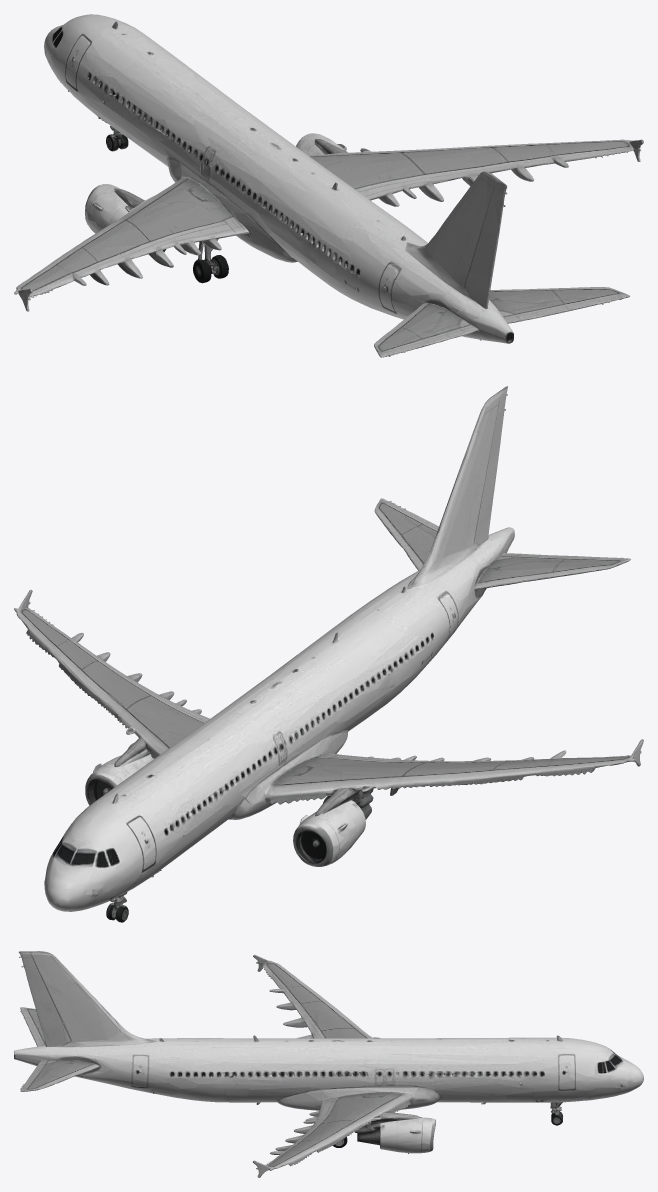
Rendered from passenger_airliner_22.glb.
3 renders of one model, top to bottom at view 1: azimuth 30°, elevation 25°; view 2: azimuth 150°, elevation 25°; view 3: azimuth 270°, elevation 25°, orthographic. The views are drawn at different scales.
Parts seen in each view (by area): view 1: output_unwrapped; view 2: output_unwrapped; view 3: output_unwrapped.
Boxes of the visible parts, x1,y1,x2,y2 form: output_unwrapped: [14, 14, 643, 357]; output_unwrapped: [14, 386, 643, 922]; output_unwrapped: [14, 951, 643, 1177].
Size of the model in its own units: 28.33 by 10.86 by 36.
Materials: 1 (1 with a texture image).
